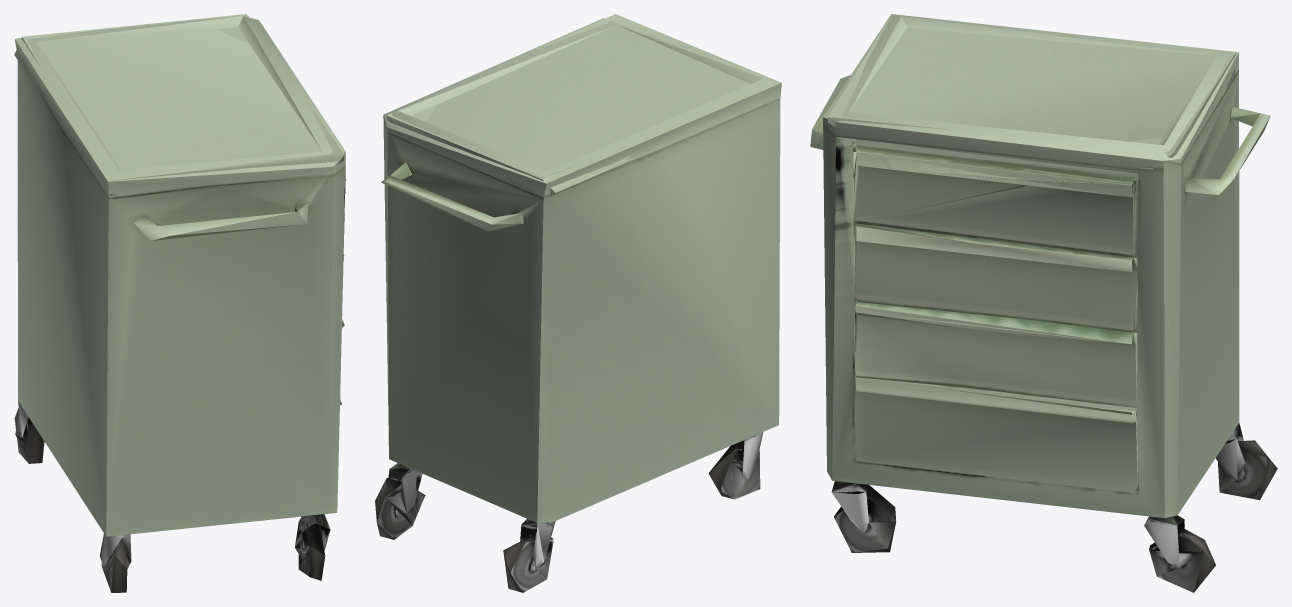
3 renders of one model, left to right at view 1: azimuth 30°, elevation 25°; view 2: azimuth 150°, elevation 25°; view 3: azimuth 270°, elevation 25°, orthographic. The views are drawn at different scales.
Parts seen in each view (by area): view 1: repaired; view 2: repaired; view 3: repaired.
Part boxes in pixels (x1,y1,x2,y2): repaired: (14, 14, 346, 592); repaired: (375, 14, 781, 592); repaired: (810, 14, 1277, 592).
Size of the model in its own units: 0.677 by 0.9973 by 0.9431.
